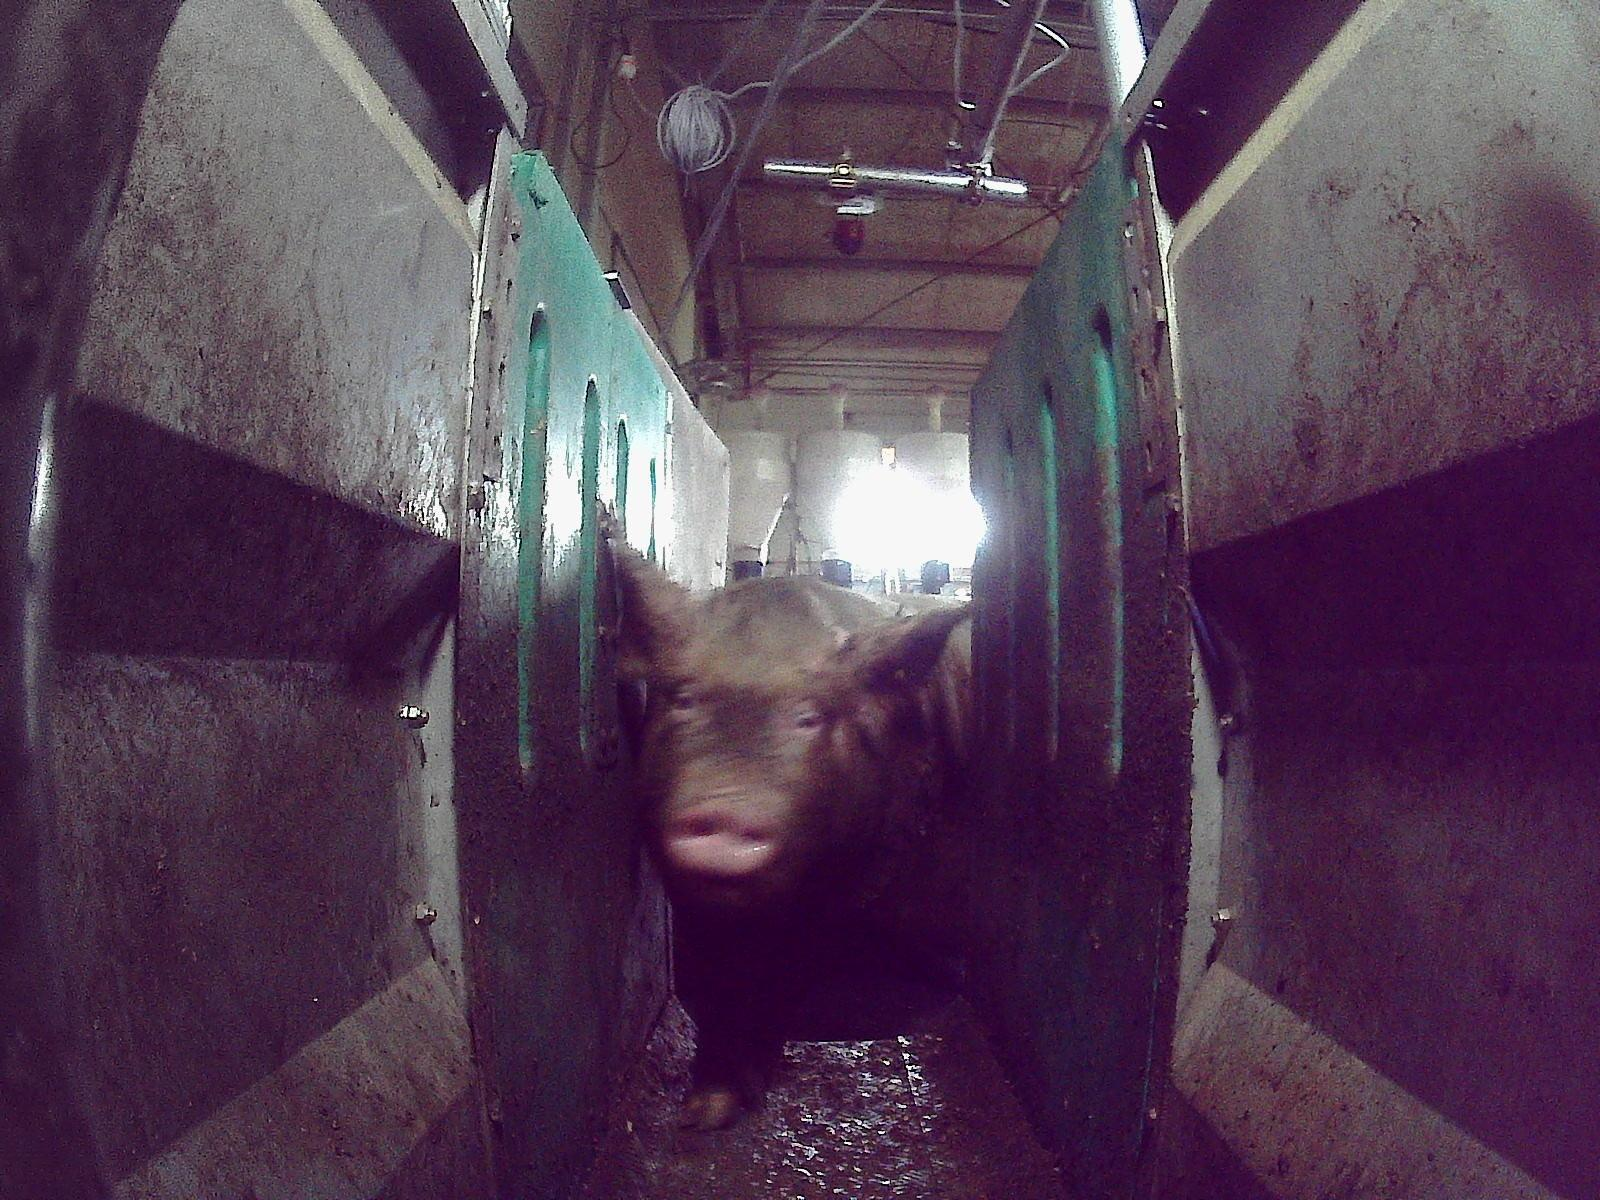Face: (634, 578, 871, 907)
